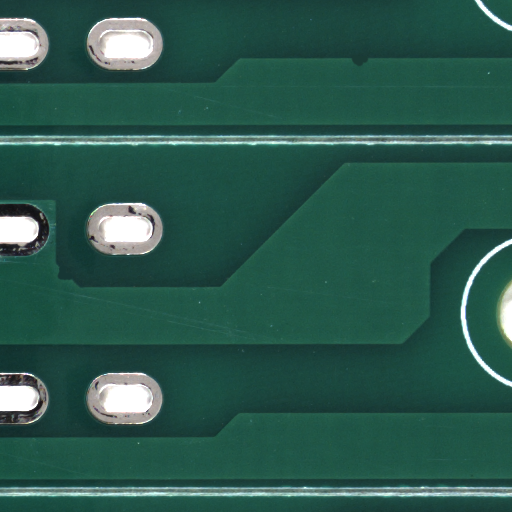Mouse_bite: (65, 273, 82, 287), (360, 61, 375, 70)
